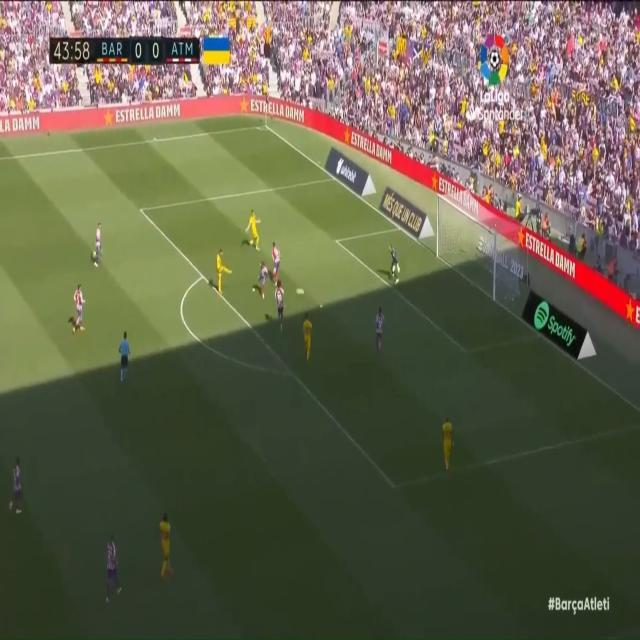ball: (296, 283, 304, 306)
goalkeeper: (382, 241, 404, 289)
player: (101, 533, 126, 607), (151, 509, 176, 579), (213, 244, 235, 296), (73, 281, 91, 340), (10, 447, 25, 517), (244, 209, 264, 259), (439, 415, 455, 472), (89, 221, 106, 270), (268, 237, 282, 287), (254, 262, 271, 302), (301, 314, 315, 362), (275, 279, 287, 327), (376, 302, 386, 352)
referee: (117, 326, 135, 387)
